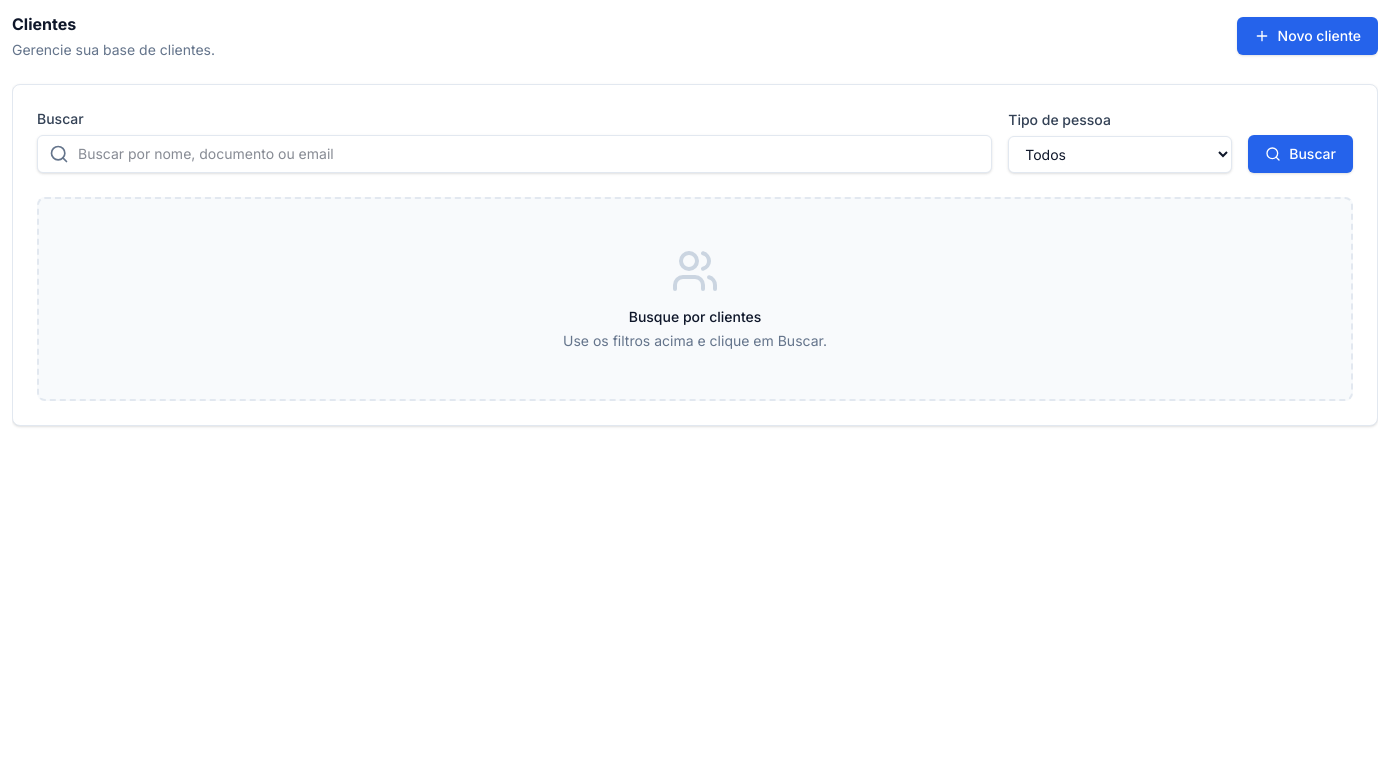
Test case: ClientList page › shows error on API failure
The width and height of the screenshot is (1390, 780).
Click the button "Buscar" at (1301, 154), box [1248,135,1353,173]
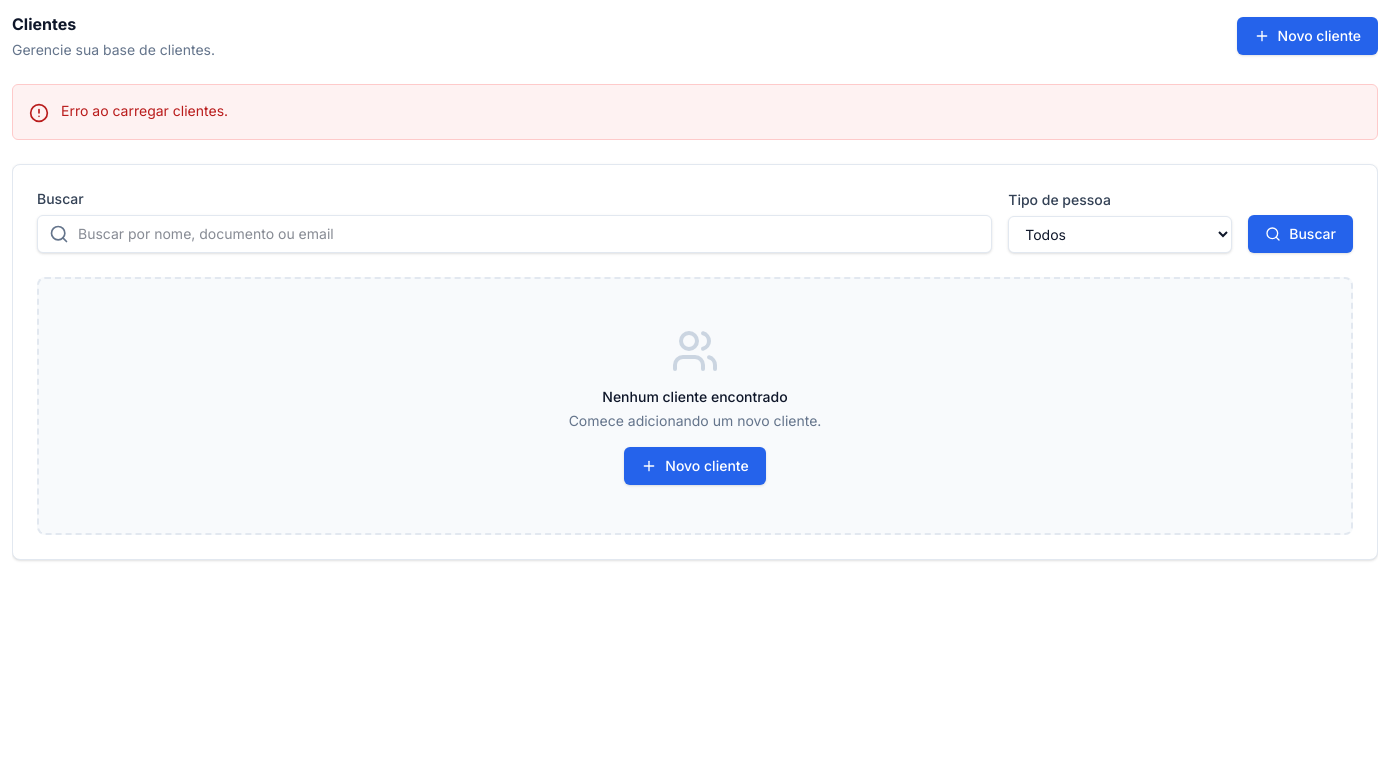
Result: the text "Erro ao carregar clientes." is shown at [61,101,228,121]
